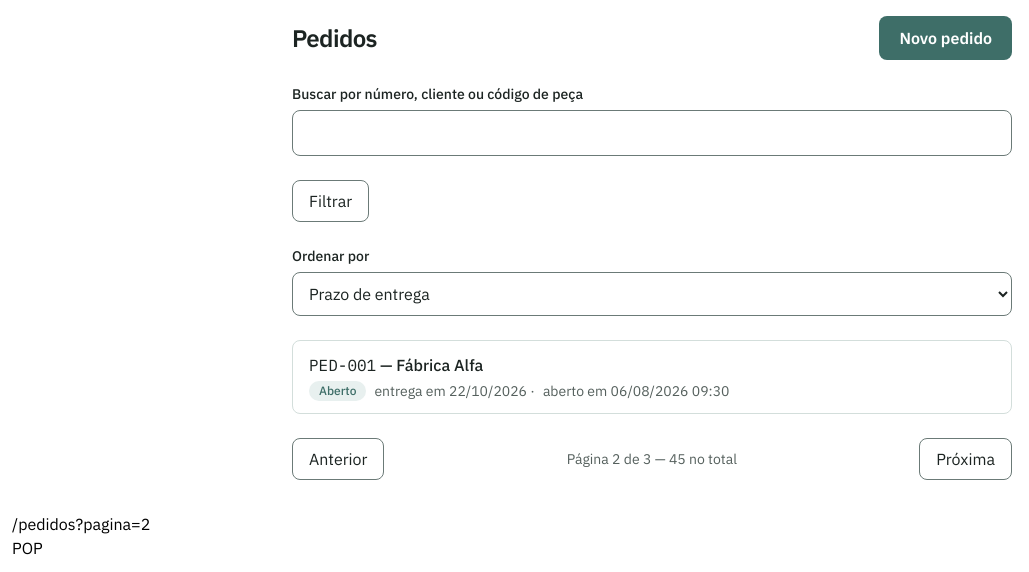
Test: PedidosPage › digitar na busca consulta de novo na pagina 1 e escreve na URL
The image size is (1029, 572).
Expected: the text "PED-001" is shown, 309,355 -> 376,375
Type "Alfa" into the search field labelled "Buscar por número, cliente ou código de peça".
click(652, 133); type("Alfa")  # box 292,110 -> 1012,156
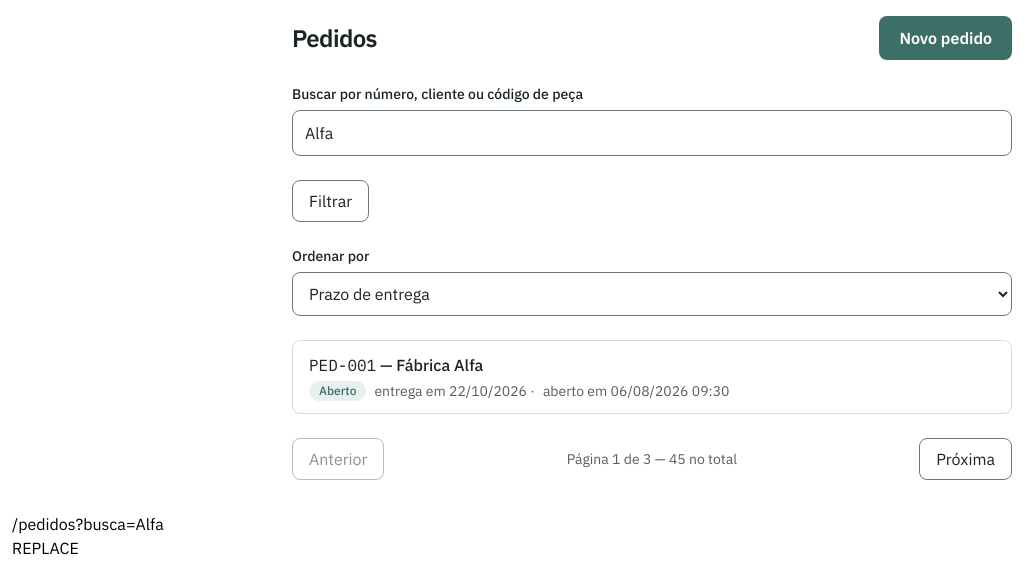
Result: the text named "localizacao" reads "/pedidos?busca=Alfa" at 12,514 -> 164,534
